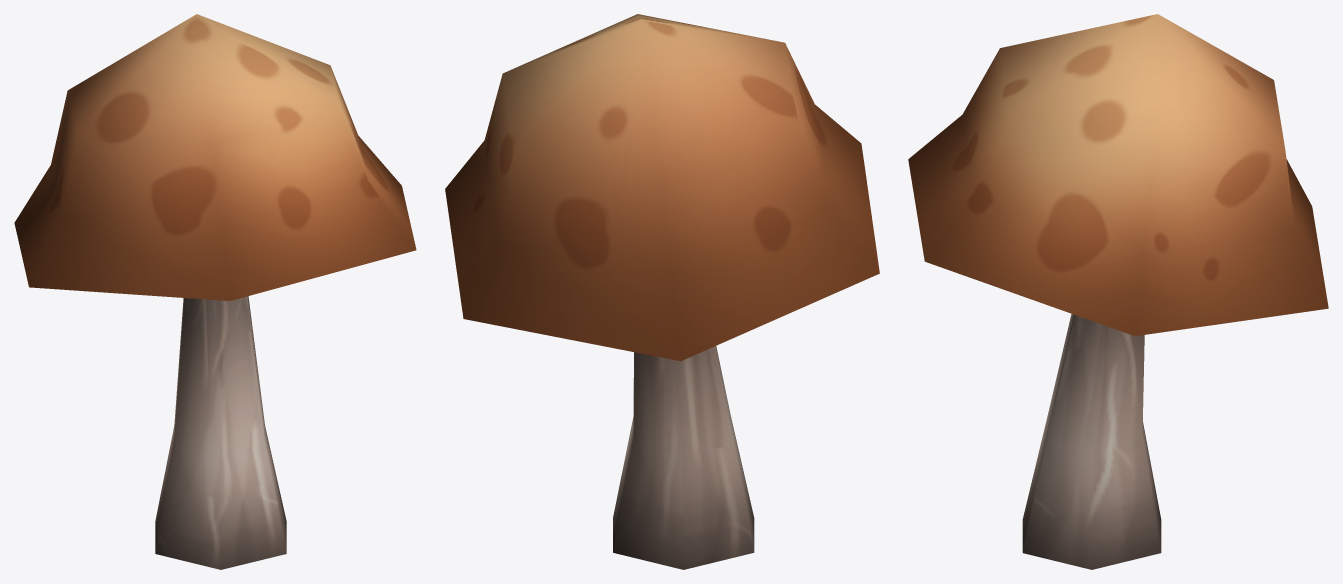
File: fungus_01.fbx
The picture shows the model from 3 angles, left to right: view 1: azimuth 30°, elevation 25°; view 2: azimuth 150°, elevation 25°; view 3: azimuth 270°, elevation 25°; orthographic projection. The views are drawn at different scales.
Parts seen in each view (by area): view 1: fungus_01; view 2: fungus_01; view 3: fungus_01.
Part boxes in pixels (<box>): fungus_01: <box>14,14,416,569</box>; fungus_01: <box>445,14,879,569</box>; fungus_01: <box>908,14,1328,569</box>.
Bounding box in the file's own units: 2.17 × 2.67 × 1.94.
